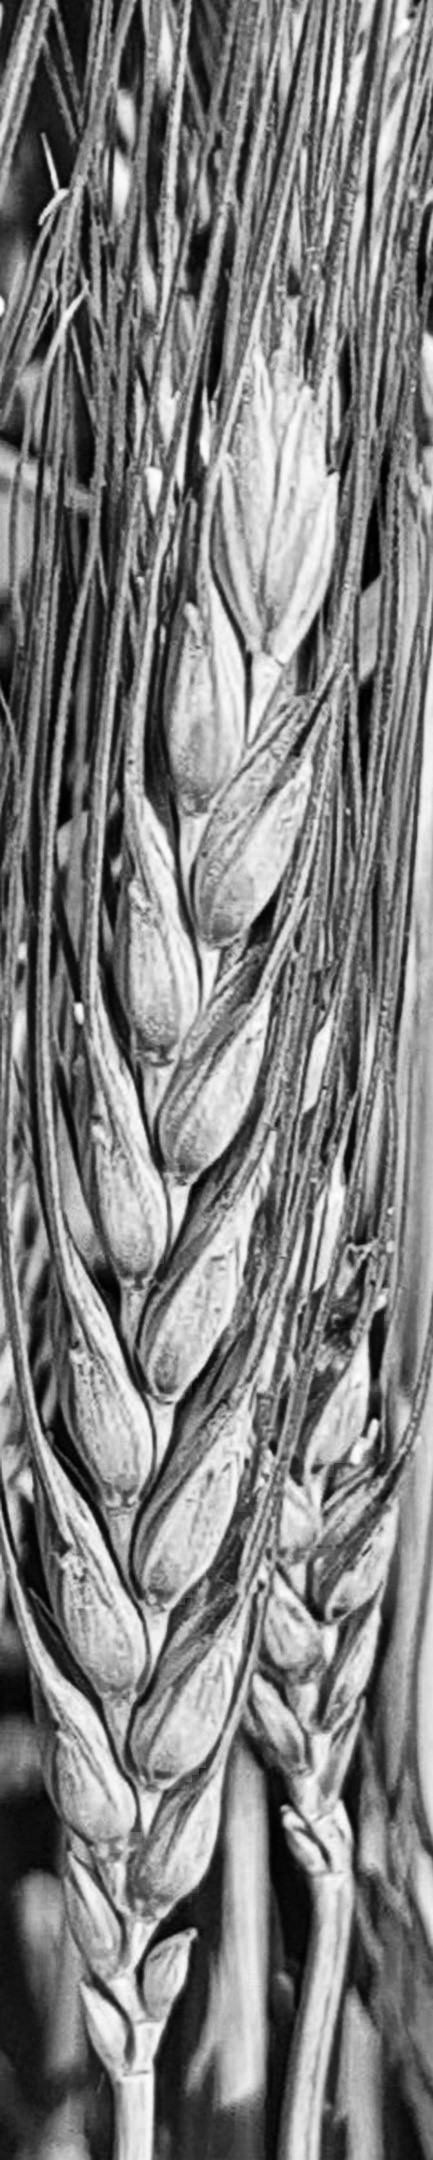Healthy Wheat: (14, 349, 352, 2017)
